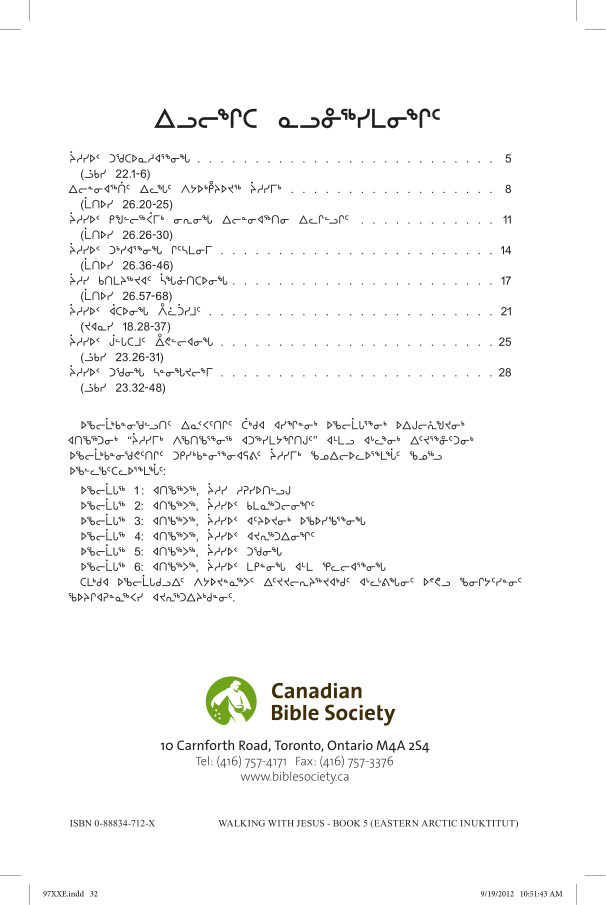inuktitut: (59, 412, 539, 614), (59, 141, 352, 402), (146, 93, 447, 135)
latin: (149, 735, 431, 789), (261, 671, 401, 729), (208, 810, 523, 835), (60, 811, 163, 833)
